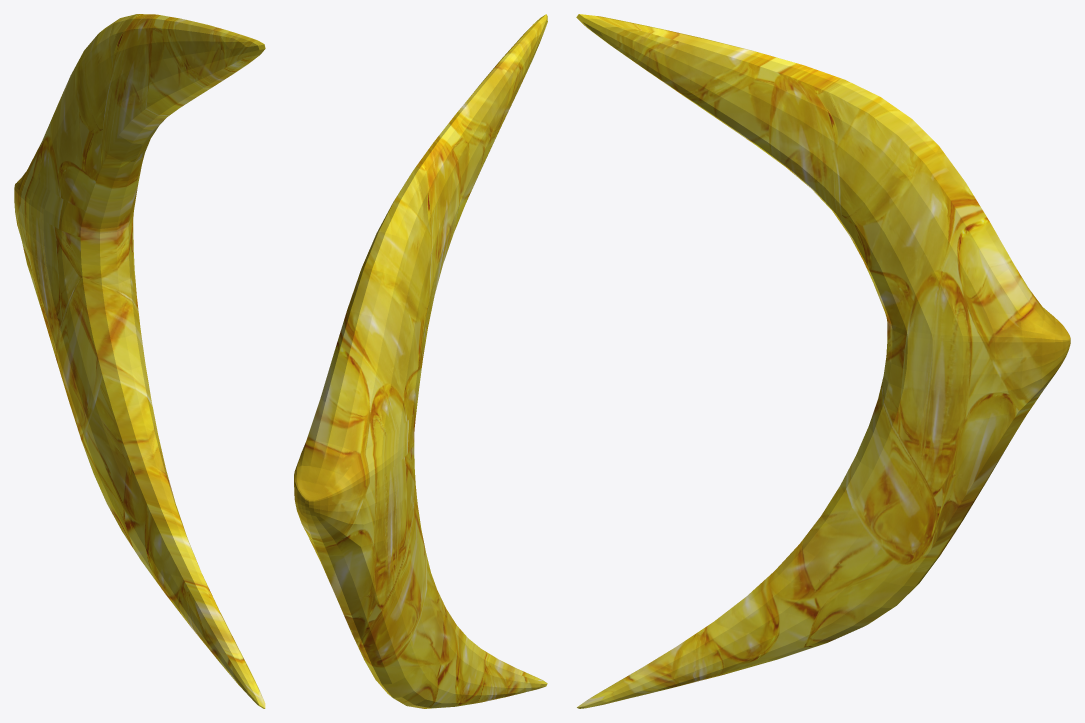
File: Fish4_Tail.dae
The picture shows the model from 3 angles, left to right: view 1: azimuth 30°, elevation 25°; view 2: azimuth 150°, elevation 25°; view 3: azimuth 270°, elevation 25°; orthographic projection. The views are drawn at different scales.
Visible parts, largest first — view 1: Cube_Cube_001; view 2: Cube_Cube_001; view 3: Cube_Cube_001.
Boxes of the visible parts, x1,y1,x2,y2 form: Cube_Cube_001: [14, 14, 265, 708]; Cube_Cube_001: [294, 14, 547, 708]; Cube_Cube_001: [576, 14, 1070, 708].
Size of the model in its own units: 0.2918 by 1.63 by 2.53.
1 material, 1 textured.
